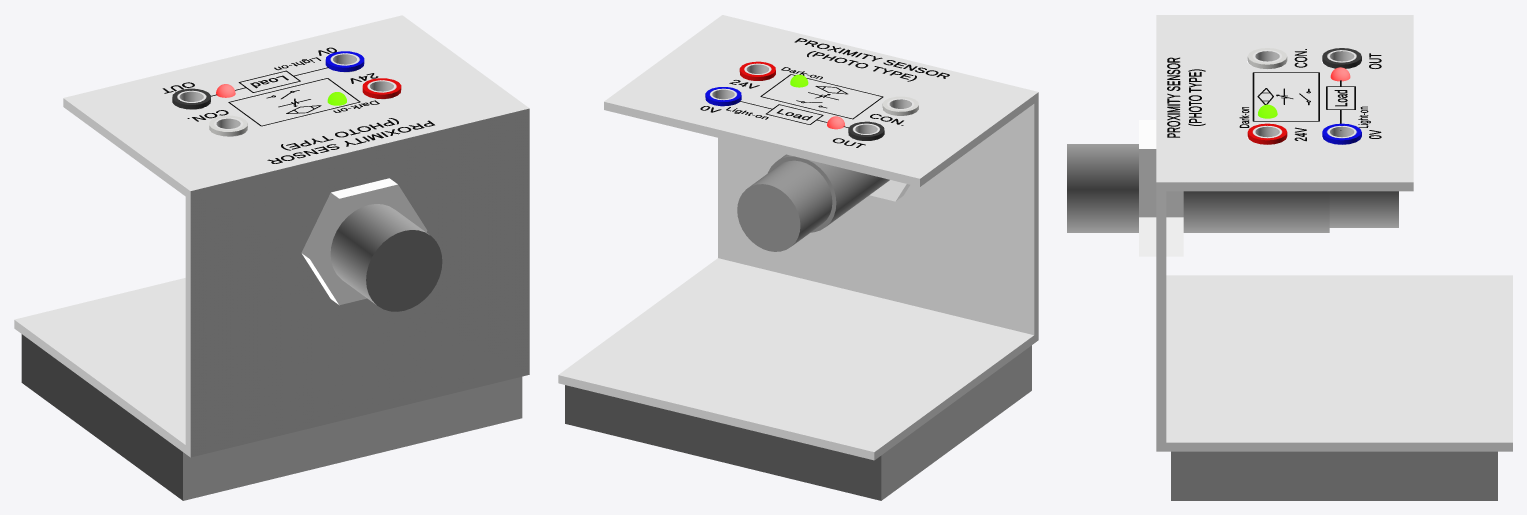
The model's file is photo-sensor-pnp.glb.
3 renders of one model, left to right at view 1: azimuth 30°, elevation 25°; view 2: azimuth 150°, elevation 25°; view 3: azimuth 270°, elevation 25°, orthographic. The views are drawn at different scales.
Parts seen in each view (by area): view 1: Base__go812__mesh1, Base__go812__mesh0, Base__go812__mesh7, Base__go812__mesh6, Sticker__go1038__mesh0, Base__go812__mesh2, Base__go812__mesh3, Base__go812__mesh4, Base__go812__mesh5; view 2: Base__go812__mesh1, Base__go812__mesh0, Base__go812__mesh7, Sticker__go1038__mesh0, Base__go812__mesh2, Base__go812__mesh5, Base__go812__mesh3, Base__go812__mesh4, Base__go812__mesh6; view 3: Base__go812__mesh1, Base__go812__mesh0, Base__go812__mesh7, Base__go812__mesh6, Sticker__go1038__mesh0, Base__go812__mesh4, Base__go812__mesh3, Base__go812__mesh2, Base__go812__mesh5.
Boxes of the visible parts, left/top/right/bottom form: Base__go812__mesh1: left=14, top=15, right=529, bottom=457; Base__go812__mesh0: left=21, top=334, right=522, bottom=500; Base__go812__mesh7: left=241, top=132, right=442, bottom=311; Base__go812__mesh6: left=301, top=178, right=427, bottom=305; Sticker__go1038__mesh0: left=162, top=47, right=434, bottom=163; Base__go812__mesh2: left=209, top=115, right=247, bottom=136; Base__go812__mesh3: left=325, top=51, right=364, bottom=72; Base__go812__mesh4: left=362, top=78, right=401, bottom=99; Base__go812__mesh5: left=172, top=88, right=210, bottom=109; Base__go812__mesh1: left=558, top=15, right=1038, bottom=460; Base__go812__mesh0: left=565, top=345, right=1031, bottom=500; Base__go812__mesh7: left=737, top=154, right=889, bottom=251; Sticker__go1038__mesh0: left=700, top=38, right=949, bottom=147; Base__go812__mesh2: left=882, top=96, right=918, bottom=115; Base__go812__mesh5: left=848, top=121, right=884, bottom=140; Base__go812__mesh3: left=705, top=87, right=741, bottom=106; Base__go812__mesh4: left=739, top=61, right=775, bottom=80; Base__go812__mesh6: left=870, top=180, right=909, bottom=201; Base__go812__mesh1: left=1156, top=15, right=1512, bottom=451; Base__go812__mesh0: left=1171, top=451, right=1497, bottom=500; Base__go812__mesh7: left=1067, top=144, right=1398, bottom=232; Base__go812__mesh6: left=1139, top=120, right=1183, bottom=256; Sticker__go1038__mesh0: left=1167, top=49, right=1381, bottom=141; Base__go812__mesh4: left=1247, top=123, right=1287, bottom=144; Base__go812__mesh3: left=1322, top=123, right=1361, bottom=144; Base__go812__mesh2: left=1247, top=48, right=1287, bottom=68; Base__go812__mesh5: left=1322, top=48, right=1361, bottom=68.
Size of the model in its own units: 0.08 by 0.073 by 0.09.
Materials: 11 (6 with a texture image).
